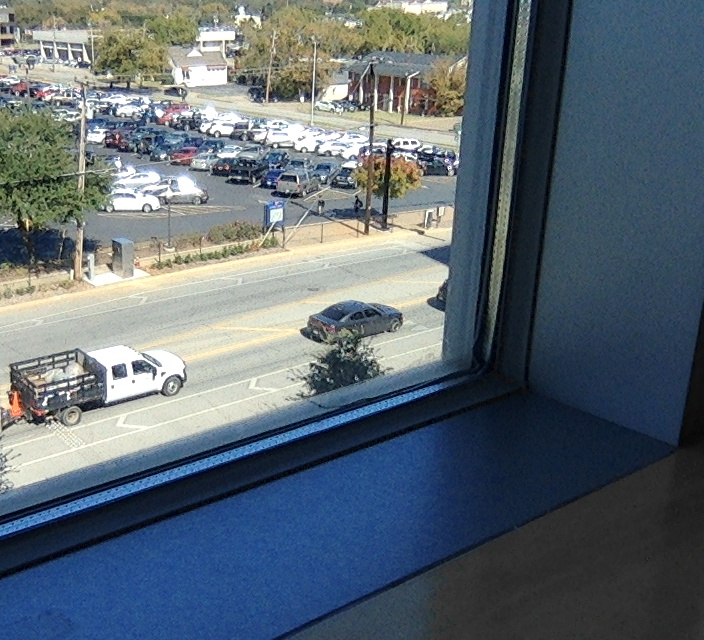car: (300, 300, 404, 340)
